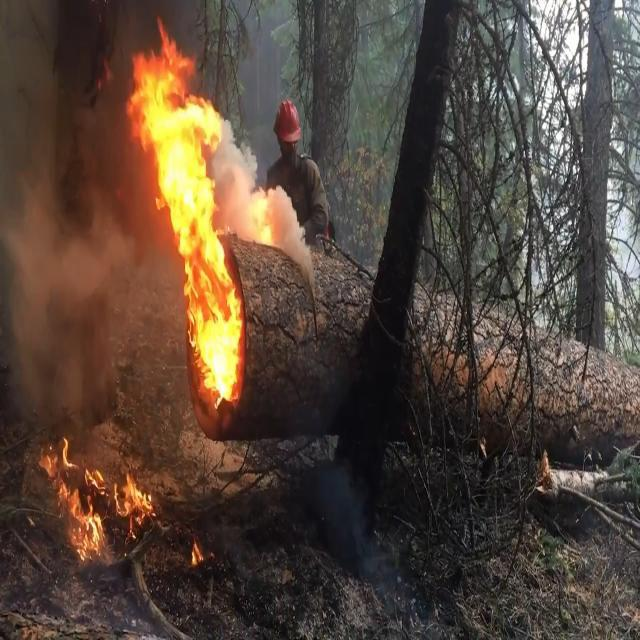Fire: (130, 30, 256, 420)
